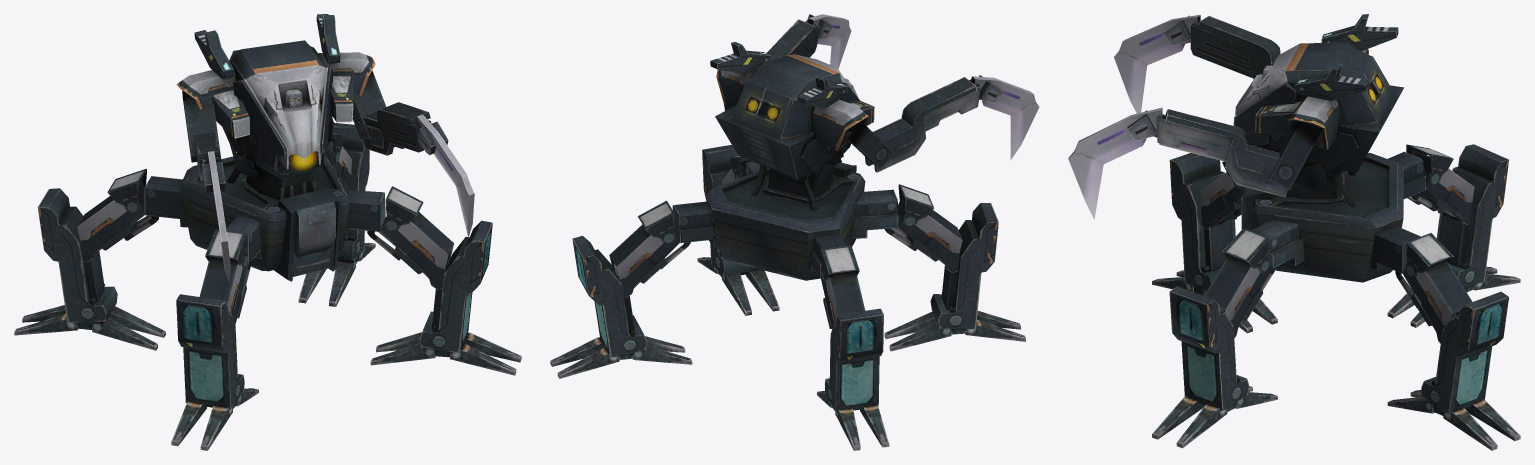
3 views of the same model, side by side, from view 1: azimuth 30°, elevation 25°; view 2: azimuth 150°, elevation 25°; view 3: azimuth 270°, elevation 25° (orthographic). The views are drawn at different scales.
Visible parts, largest first — view 1: 20_10; view 2: 20_10; view 3: 20_10.
Part boxes in pixels (bbox=[...]): 20_10: bbox=[14, 14, 521, 450]; 20_10: bbox=[550, 14, 1039, 450]; 20_10: bbox=[1068, 14, 1520, 450].
Size of the model in its own units: 301 by 253 by 320.
